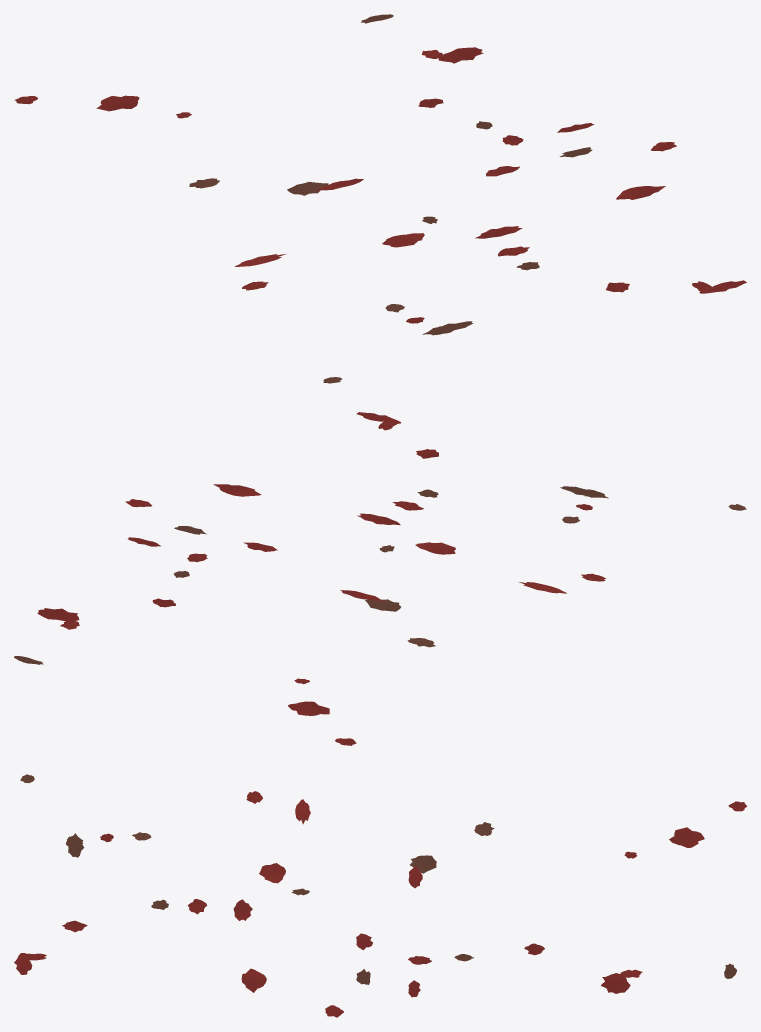
File: blood_fine_spray.glb
3 views of the same model, one above another, from view 1: azimuth 30°, elevation 25°; view 2: azimuth 150°, elevation 25°; view 3: azimuth 270°, elevation 25° (orthographic). The views are drawn at different scales.
Visible parts, largest first — view 1: blood_fine_spray; view 2: blood_fine_spray; view 3: blood_fine_spray.
Boxes of the visible parts, x1,y1,x2,y2 form: blood_fine_spray: (14, 14, 746, 383); blood_fine_spray: (14, 412, 746, 745); blood_fine_spray: (14, 774, 746, 1017).
Bounding box in the file's own units: 1.01 × 0.0003 × 1.29.
Materials: 2 (2 with a texture image).
